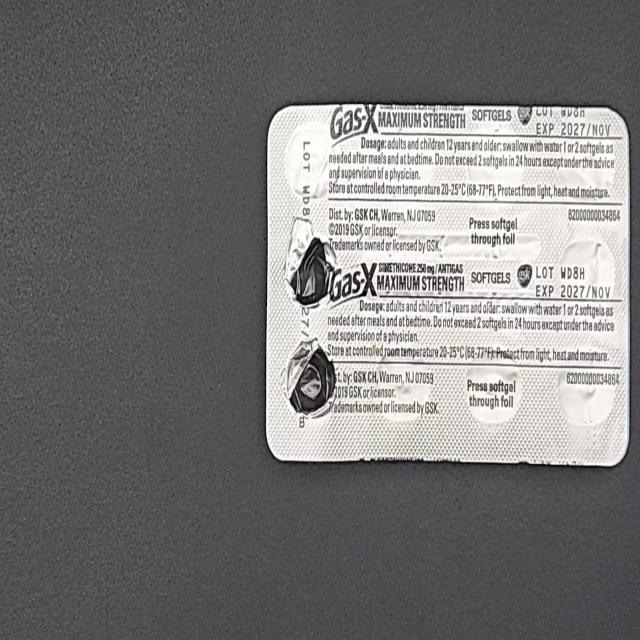defect: (282, 209, 341, 314), (276, 333, 340, 422)
